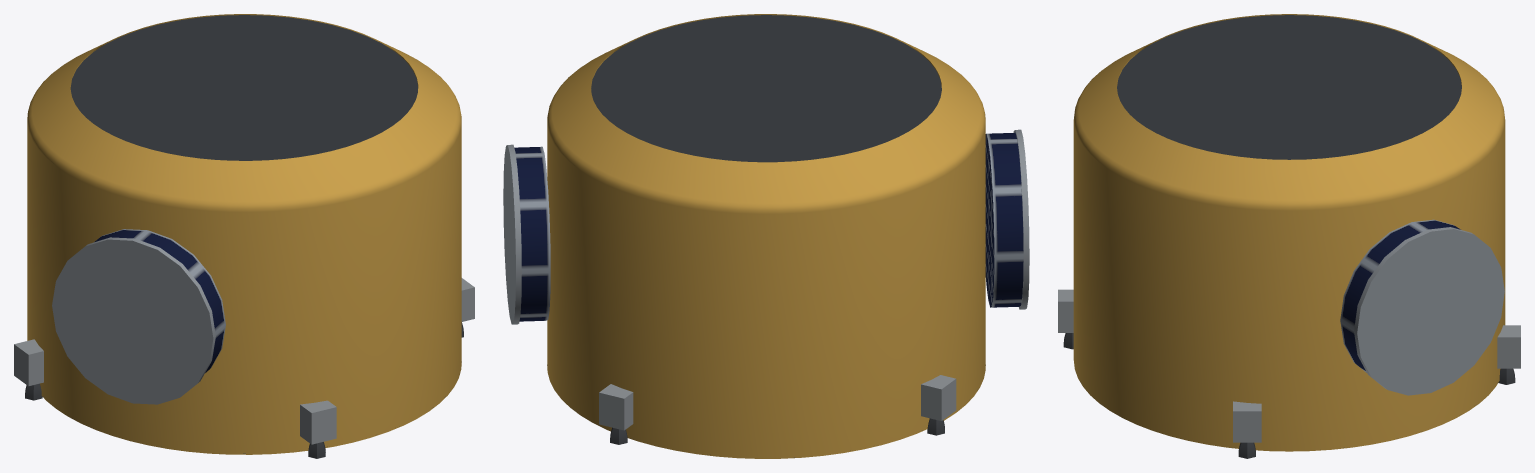
File: cygnus_sm.glb
3 views of the same model, side by side, from view 1: azimuth 30°, elevation 25°; view 2: azimuth 150°, elevation 25°; view 3: azimuth 270°, elevation 25° (orthographic).
Parts seen in each view (by area): view 1: body, slot_engine__thrusters_only; view 2: body, slot_engine__thrusters_only; view 3: body, slot_engine__thrusters_only.
Part boxes in pixels (x1=…): body: x1=27, y1=14, x2=461, y2=454; slot_engine__thrusters_only: x1=14, y1=278, x2=474, y2=458; body: x1=503, y1=14, x2=1029, y2=458; slot_engine__thrusters_only: x1=599, y1=375, x2=956, y2=444; body: x1=1073, y1=14, x2=1505, y2=451; slot_engine__thrusters_only: x1=1058, y1=289, x2=1520, y2=458.
Bounding box in the file's own units: 1.81 × 1.06 × 1.61.
10 materials, 1 textured.
